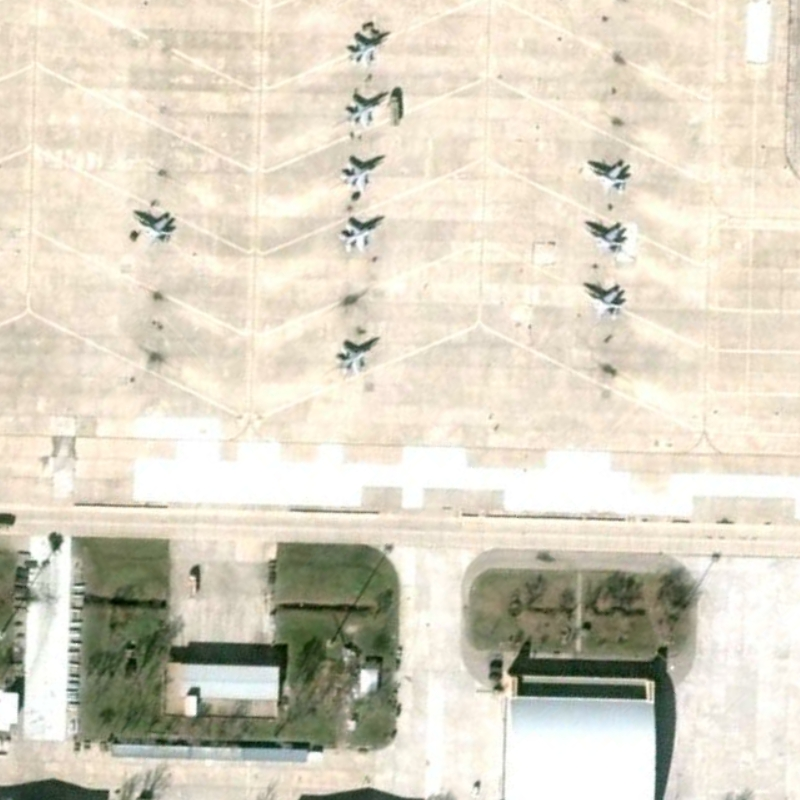A16: (335, 212, 387, 255), (332, 335, 383, 378), (343, 27, 394, 70), (343, 89, 392, 130), (582, 161, 632, 200), (338, 154, 388, 193), (578, 221, 630, 258), (578, 283, 628, 320), (129, 212, 179, 246)
